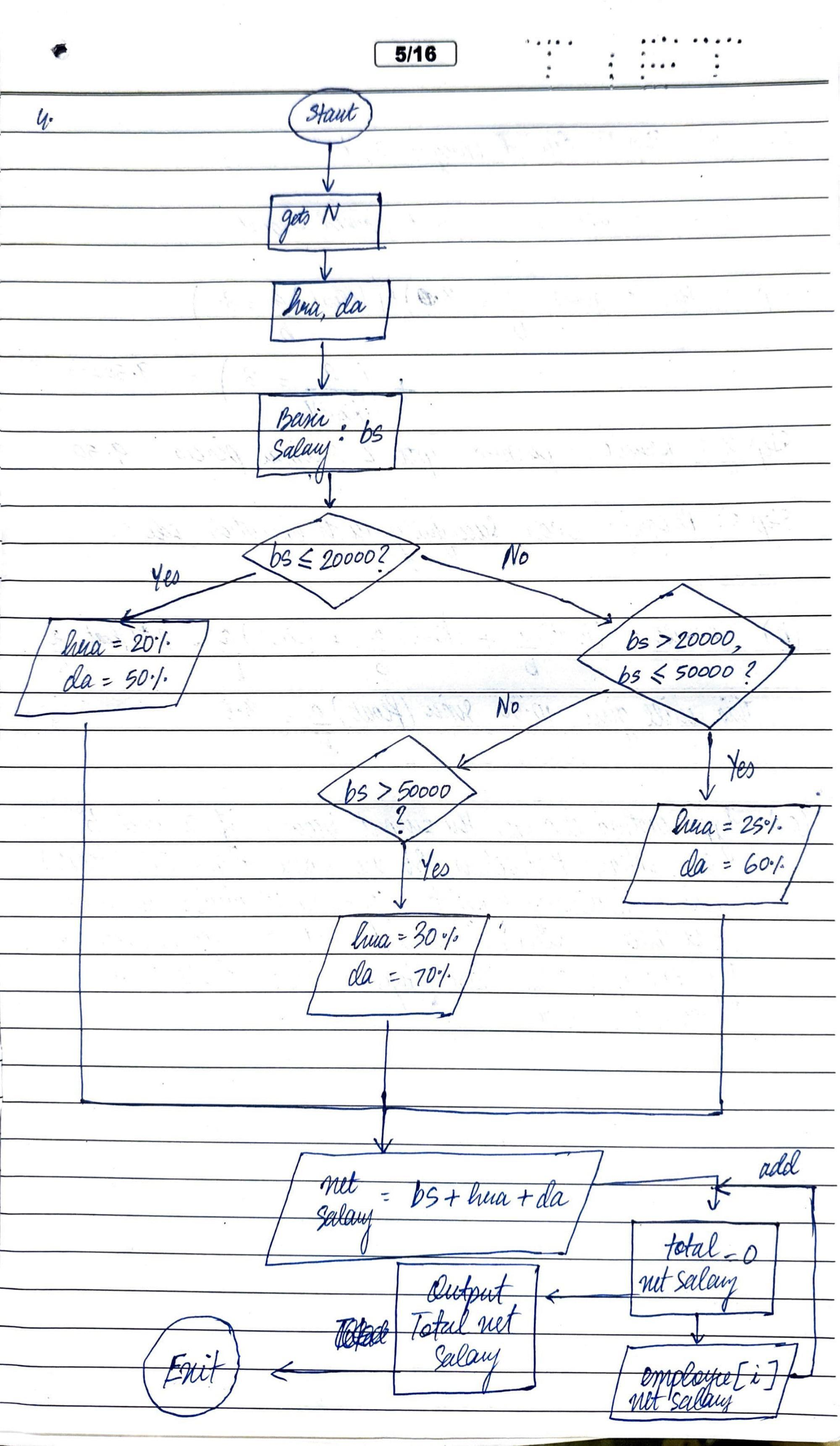cuttings: (321, 1309, 391, 1358)
